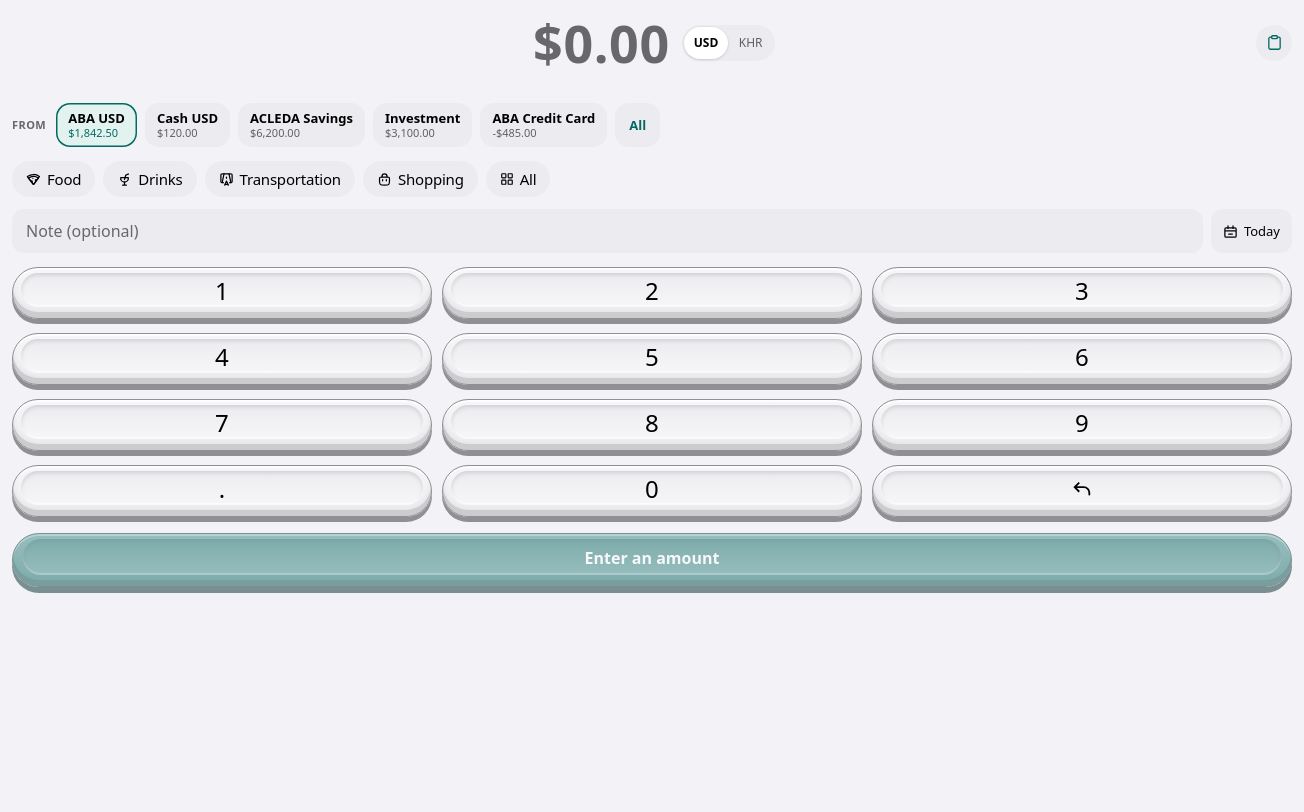
Test: transaction save feedback › pastes and saves an exact bank amount, preserving the draft on invalid paste
Later steps or results of the test are not shown.
Click the button named "Paste amount" at (1274, 43), box [1256, 25, 1292, 61]
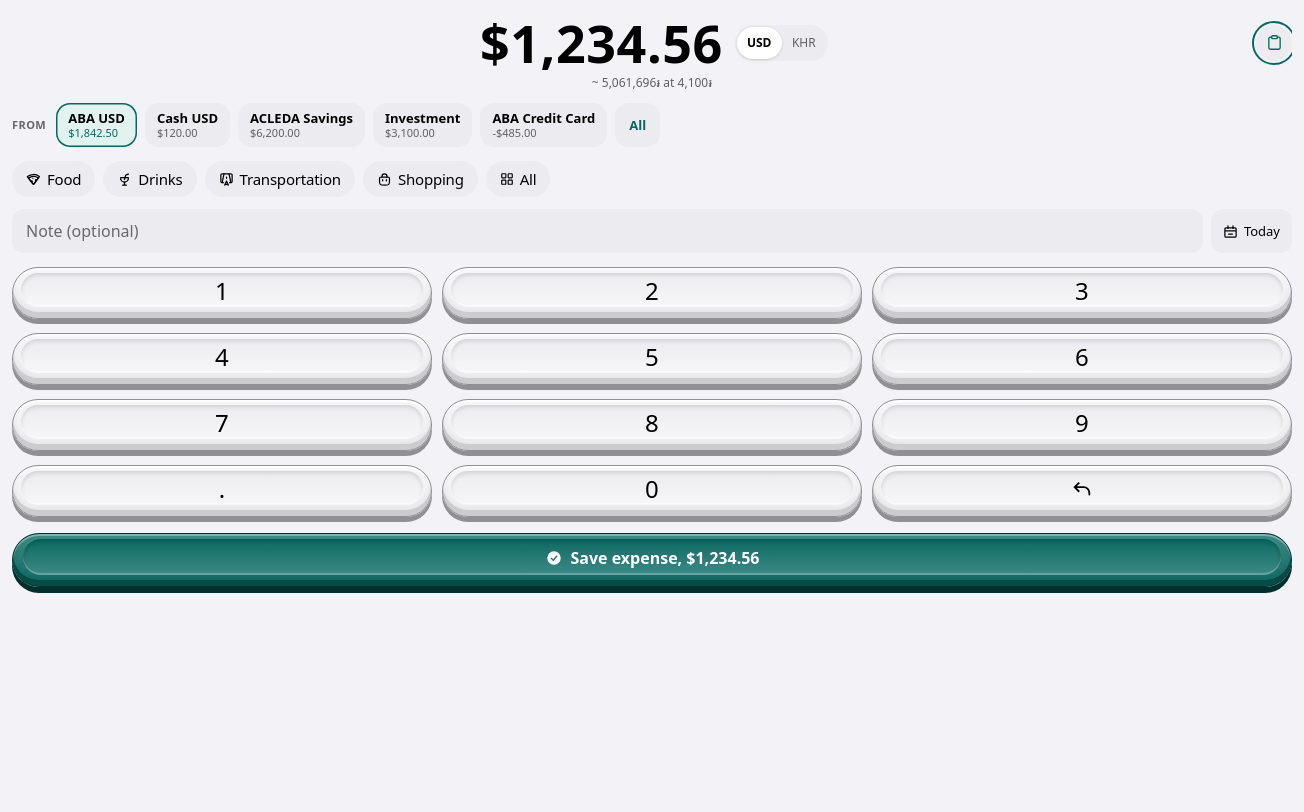
Click the button named "Paste amount" at (1274, 43), box [1256, 25, 1292, 61]
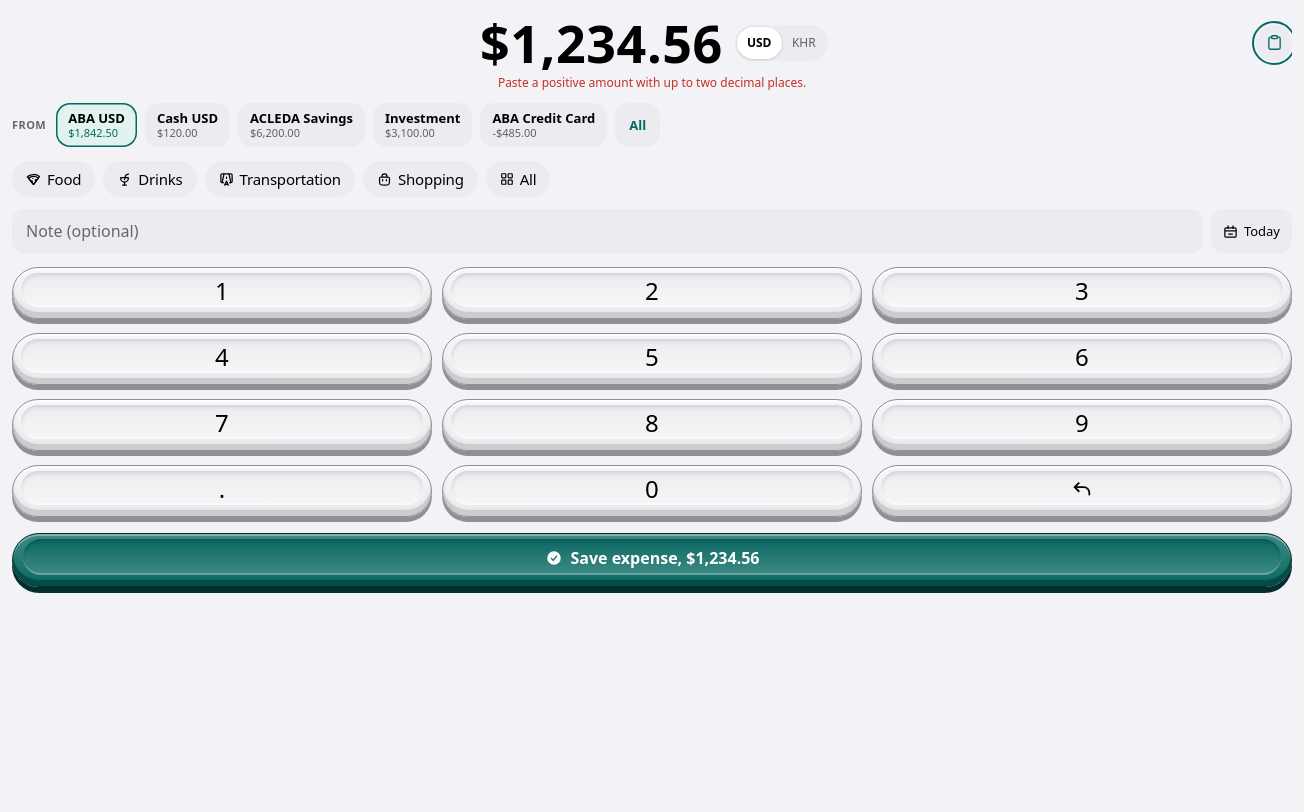
Expected: the message shows "up to two decimal places", [498, 74, 806, 91]
